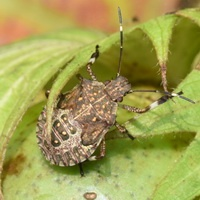insect: (123, 9, 199, 182), (37, 44, 129, 165)
